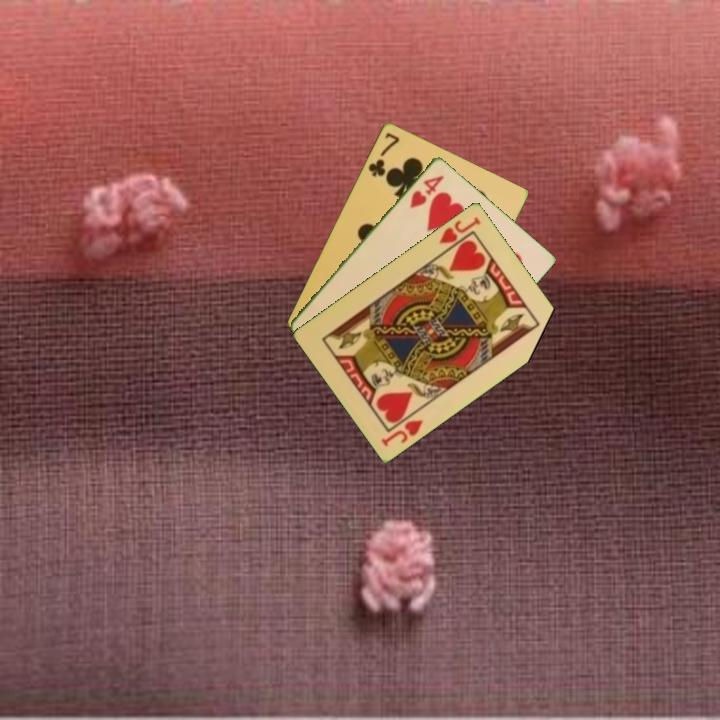4h: (406, 171, 447, 211)
7c: (364, 128, 402, 179)
Jh: (435, 213, 484, 246), (378, 416, 426, 449)
